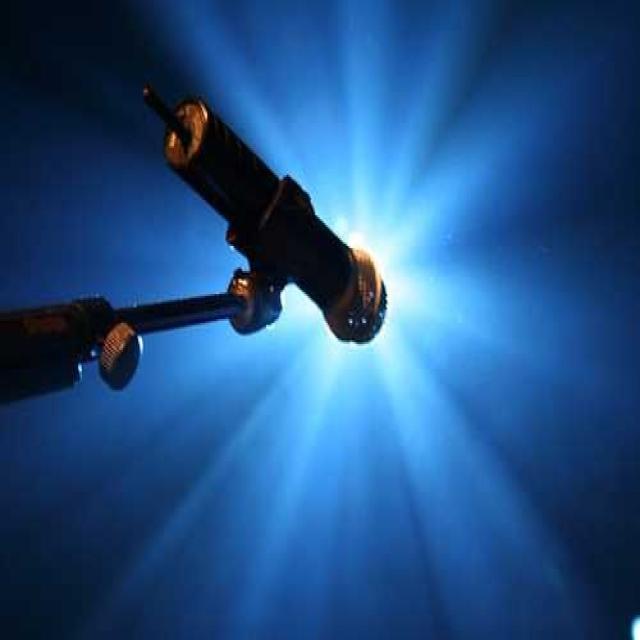microphone: (146, 83, 386, 340)
